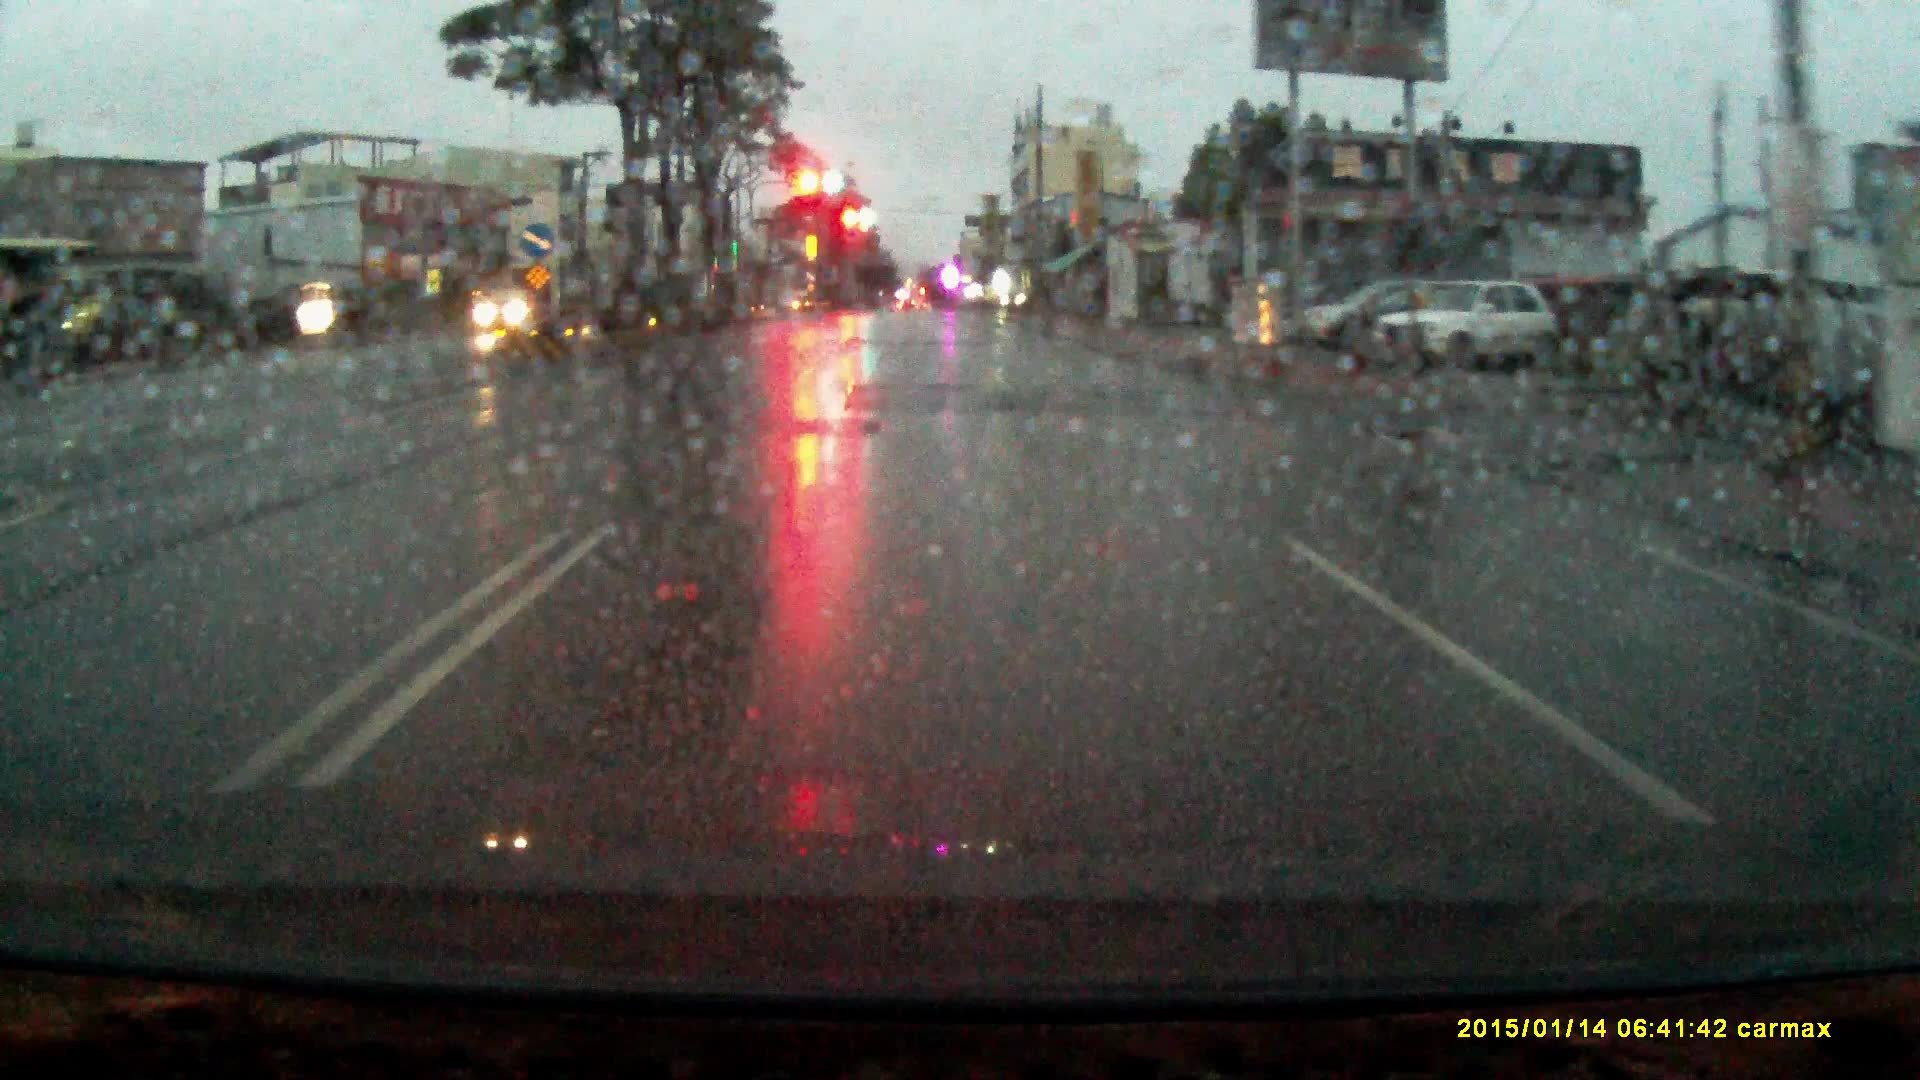vehicle: (1369, 278, 1557, 371), (1323, 280, 1468, 356), (1303, 285, 1406, 353), (473, 286, 559, 340), (1004, 285, 1059, 316)
